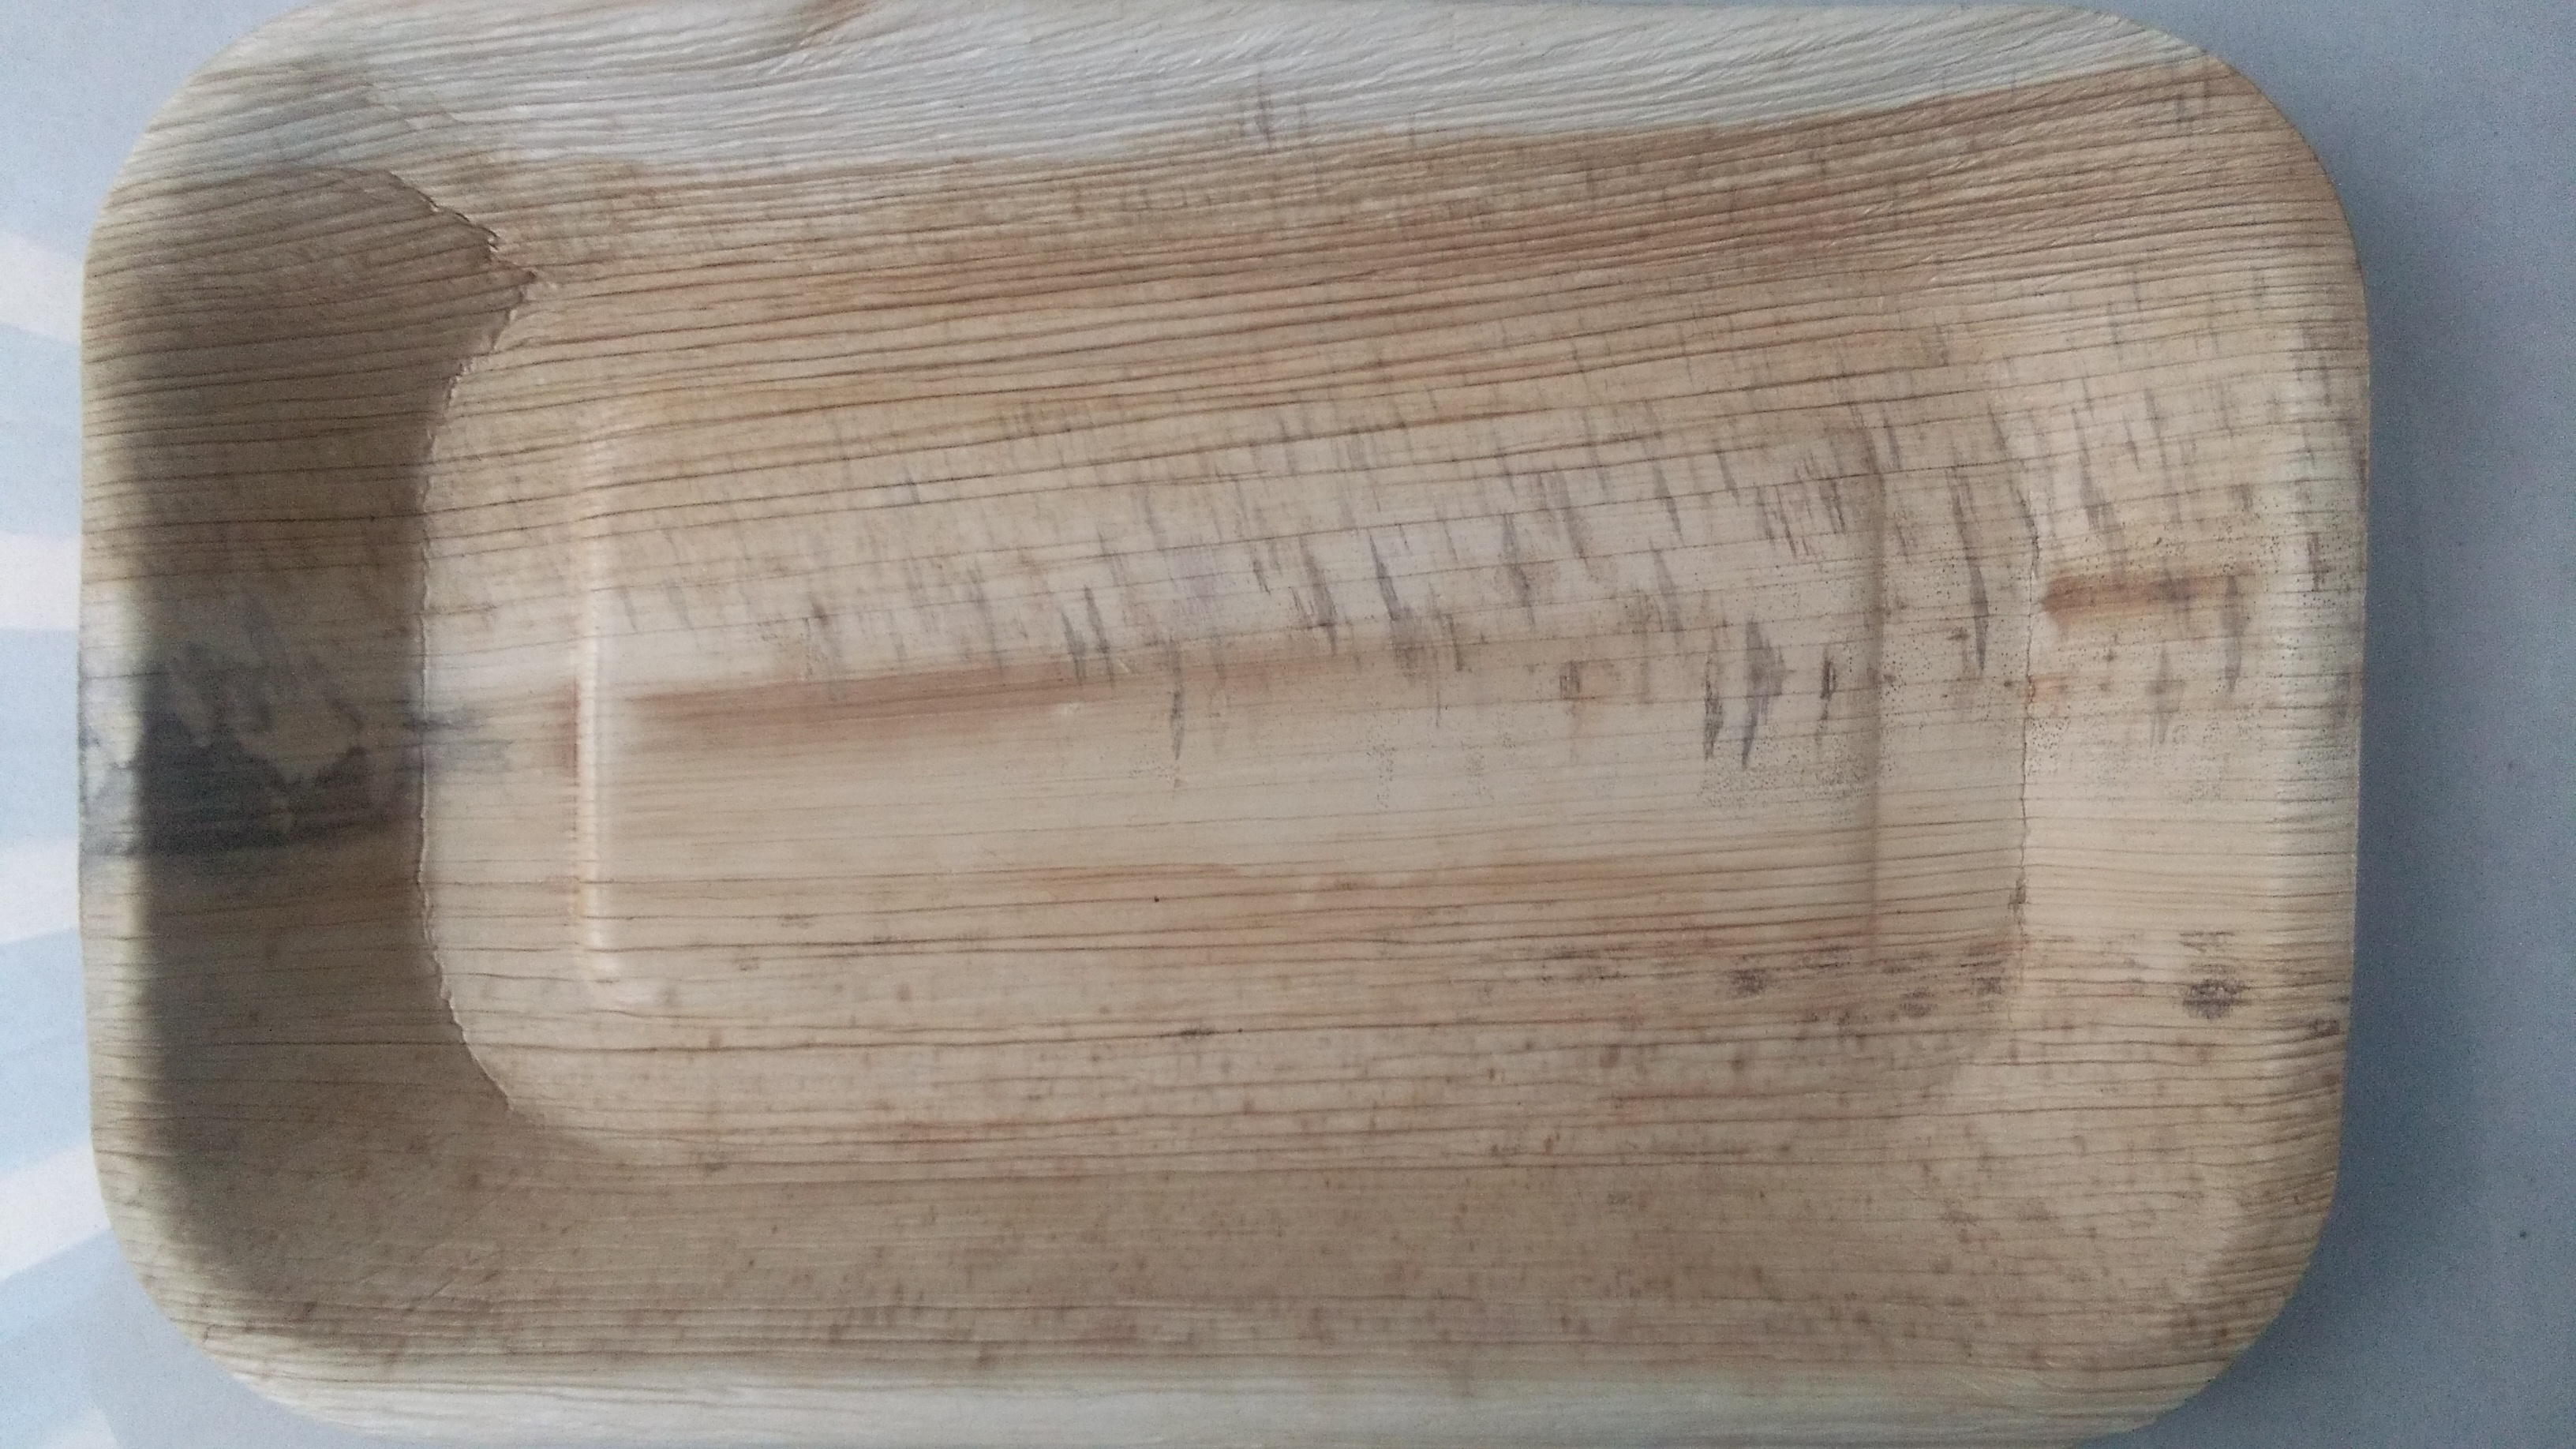areca plate: (80, 16, 2367, 1403)
